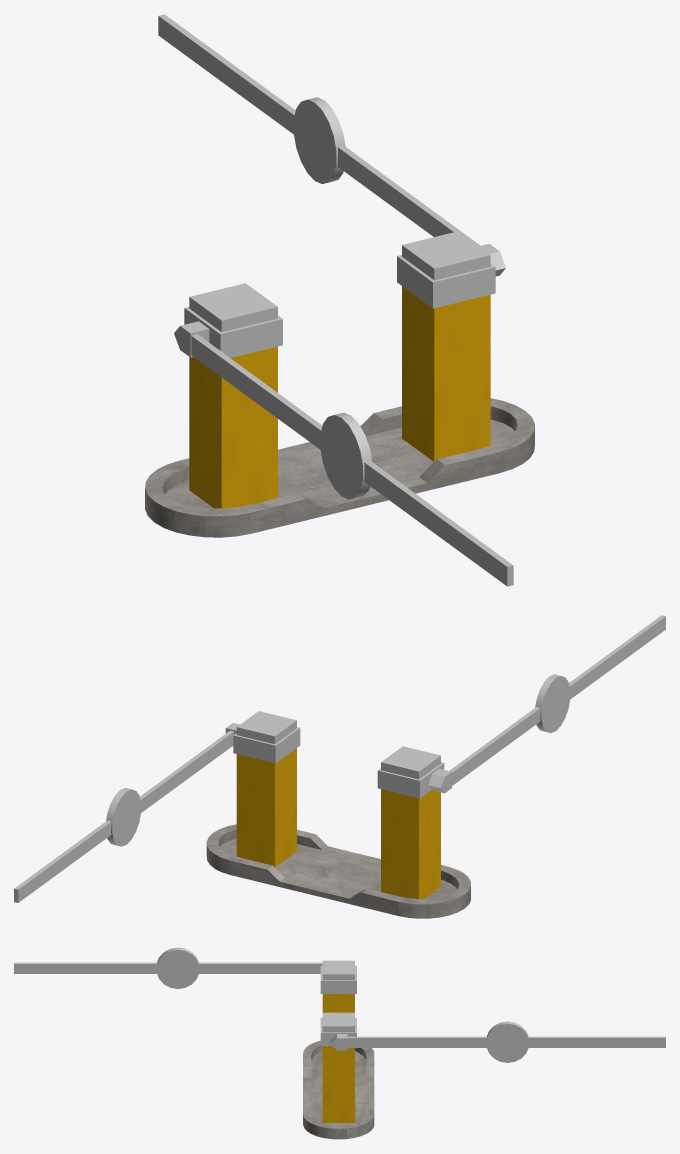
The model's file is barrera-accesoVehicular-01.obj.
3 renders of one model, top to bottom at view 1: azimuth 30°, elevation 25°; view 2: azimuth 150°, elevation 25°; view 3: azimuth 270°, elevation 25°, orthographic. The views are drawn at different scales.
Visible parts, largest first — view 1: Rectangle001, Box002, Box003, Box012, Box007, Cylinder002, Cylinder001, Box010, Box005, Box011, Box004; view 2: Rectangle001, Box002, Box003, Box007, Box012, Cylinder002, Cylinder001, Box005, Box011, Box010, Box004, Box008; view 3: Rectangle001, Box007, Box012, Box002, Cylinder002, Cylinder001, Box010, Box011, Box003, Box004, Box005.
Boxes of the visible parts, bbox=[...] form: Rectangle001: bbox=[145, 398, 534, 537]; Box002: bbox=[402, 286, 490, 461]; Box003: bbox=[189, 346, 277, 508]; Box012: bbox=[191, 334, 513, 586]; Box007: bbox=[158, 14, 480, 246]; Cylinder002: bbox=[320, 412, 372, 499]; Cylinder001: bbox=[293, 97, 345, 183]; Box010: bbox=[189, 283, 277, 331]; Box005: bbox=[397, 255, 495, 308]; Box011: bbox=[402, 231, 490, 280]; Box004: bbox=[184, 307, 282, 357]; Rectangle001: bbox=[206, 824, 470, 918]; Box002: bbox=[236, 748, 296, 867]; Box003: bbox=[381, 789, 440, 898]; Box007: bbox=[14, 730, 234, 902]; Box012: bbox=[449, 615, 665, 785]; Cylinder002: bbox=[535, 674, 570, 733]; Cylinder001: bbox=[106, 788, 141, 846]; Box005: bbox=[233, 727, 300, 763]; Box011: bbox=[236, 711, 296, 744]; Box010: bbox=[381, 746, 440, 779]; Box004: bbox=[377, 762, 444, 798]; Box008: bbox=[428, 768, 451, 793]; Rectangle001: bbox=[303, 1040, 374, 1139]; Box007: bbox=[347, 1036, 665, 1047]; Box012: bbox=[14, 962, 322, 973]; Box002: bbox=[322, 1046, 354, 1122]; Cylinder002: bbox=[156, 947, 199, 988]; Cylinder001: bbox=[486, 1021, 528, 1062]; Box010: bbox=[322, 960, 354, 980]; Box011: bbox=[322, 1012, 354, 1032]; Box003: bbox=[322, 994, 354, 1012]; Box004: bbox=[320, 965, 356, 993]; Box005: bbox=[320, 1017, 356, 1045].
Bounding box in the file's own units: 59.35 × 33 × 181.
